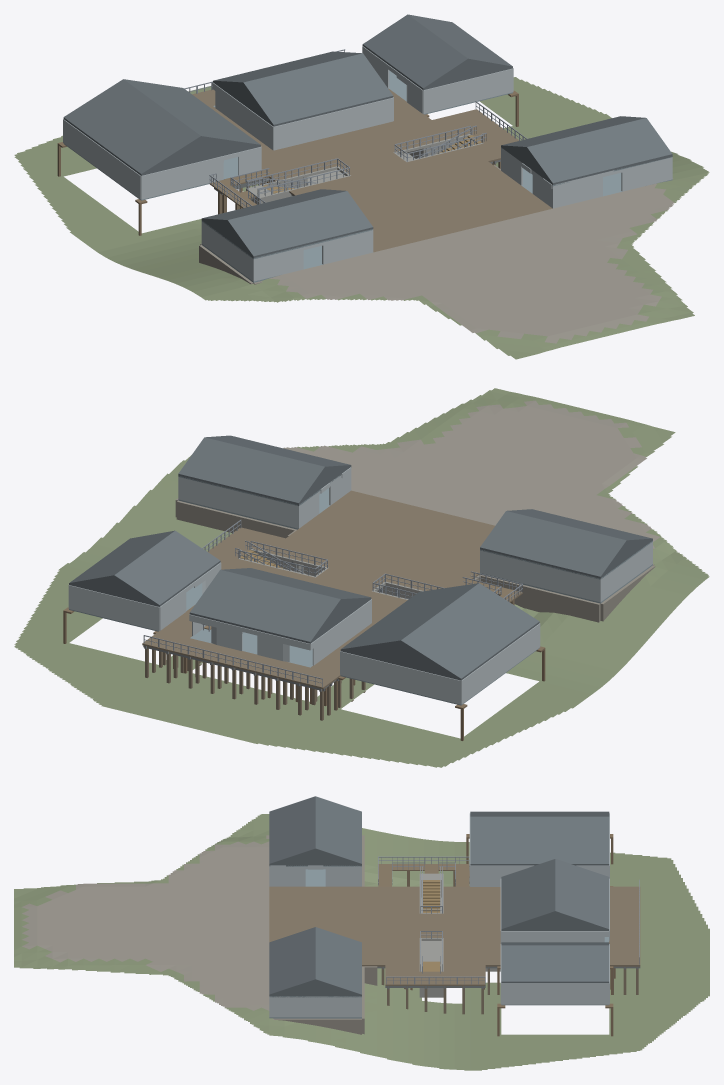
The model's file is rectangular-stair-cells.glb.
The picture shows the model from 3 angles, top to bottom: view 1: azimuth 30°, elevation 25°; view 2: azimuth 150°, elevation 25°; view 3: azimuth 270°, elevation 25°; orthographic projection. The views are drawn at different scales.
Visible parts, largest first — view 1: Saved editor geographic earthworks WLD-06, WLD-06 quay platform structural surface region0, boathouse roof west, fish-house roof south, west-cottage roof south, east-cottage roof south, Wharf cellar roof deck rectangular openings region0, net-store roof west, Wall fish S, boathouse roof east, Wharf east pier-head deck rectangular openings region0, Wall net S (+20 smaller); view 2: Saved editor geographic earthworks WLD-06, WLD-06 quay platform structural surface region0, boathouse roof west, fish-house roof north, east-cottage roof north, west-cottage roof north, net-store roof west, WLD-06 cross dock structural surface region0, Wall boathouse N, boathouse roof east, Entrance rebuild WLD-06 cottage-a N end, Entrance rebuild WLD-06 cottage-b N end (+18 smaller); view 3: Saved editor geographic earthworks WLD-06, WLD-06 quay platform structural surface region0, boathouse roof east, Wharf cellar roof deck rectangular openings region0, net-store roof east, fish-house roof south, fish-house roof north, Wharf east pier-head deck rectangular openings region0, west-cottage roof north, west-cottage roof south, east-cottage roof south, east-cottage roof north (+14 smaller).
Boxes of the visible parts, x1=… form: Saved editor geographic earthworks WLD-06: x1=14, y1=77, x2=709, y2=359; WLD-06 quay platform structural surface region0: x1=322, y1=152, x2=552, y2=252; boathouse roof west: x1=63, y1=79, x2=200, y2=174; fish-house roof south: x1=243, y1=53, x2=393, y2=126; west-cottage roof south: x1=227, y1=191, x2=373, y2=257; east-cottage roof south: x1=527, y1=118, x2=672, y2=184; Wharf cellar roof deck rectangular openings region0: x1=274, y1=121, x2=444, y2=188; net-store roof west: x1=362, y1=14, x2=468, y2=89; Wall fish S: x1=273, y1=97, x2=393, y2=150; boathouse roof east: x1=124, y1=79, x2=260, y2=146; Wharf east pier-head deck rectangular openings region0: x1=402, y1=109, x2=518, y2=162; Wall net S: x1=423, y1=68, x2=513, y2=113; Saved editor geographic earthworks WLD-06: x1=14, y1=388, x2=709, y2=767; WLD-06 quay platform structural surface region0: x1=273, y1=490, x2=494, y2=588; boathouse roof west: x1=401, y1=583, x2=539, y2=680; fish-house roof north: x1=189, y1=570, x2=340, y2=643; east-cottage roof north: x1=178, y1=437, x2=324, y2=504; west-cottage roof north: x1=480, y1=511, x2=626, y2=578; net-store roof west: x1=114, y1=530, x2=220, y2=606; WLD-06 cross dock structural surface region0: x1=142, y1=631, x2=340, y2=688; Wall boathouse N: x1=340, y1=651, x2=461, y2=704; boathouse roof east: x1=340, y1=583, x2=478, y2=650; Entrance rebuild WLD-06 cottage-a N end: x1=480, y1=550, x2=601, y2=602; Entrance rebuild WLD-06 cottage-b N end: x1=178, y1=477, x2=299, y2=528; Saved editor geographic earthworks WLD-06: x1=14, y1=814, x2=709, y2=1070; WLD-06 quay platform structural surface region0: x1=269, y1=886, x2=408, y2=966; boathouse roof east: x1=470, y1=816, x2=609, y2=865; Wharf cellar roof deck rectangular openings region0: x1=408, y1=899, x2=500, y2=951; net-store roof east: x1=501, y1=945, x2=609, y2=982; fish-house roof south: x1=501, y1=859, x2=555, y2=930; fish-house roof north: x1=555, y1=859, x2=609, y2=930; Wharf east pier-head deck rectangular openings region0: x1=385, y1=952, x2=485, y2=985; west-cottage roof north: x1=315, y1=796, x2=361, y2=865; west-cottage roof south: x1=269, y1=796, x2=315, y2=865; east-cottage roof south: x1=269, y1=927, x2=315, y2=995; east-cottage roof north: x1=315, y1=927, x2=361, y2=995.
Size of the model in its own units: 70 by 11.34 by 90.
39 materials, 17 textured.
